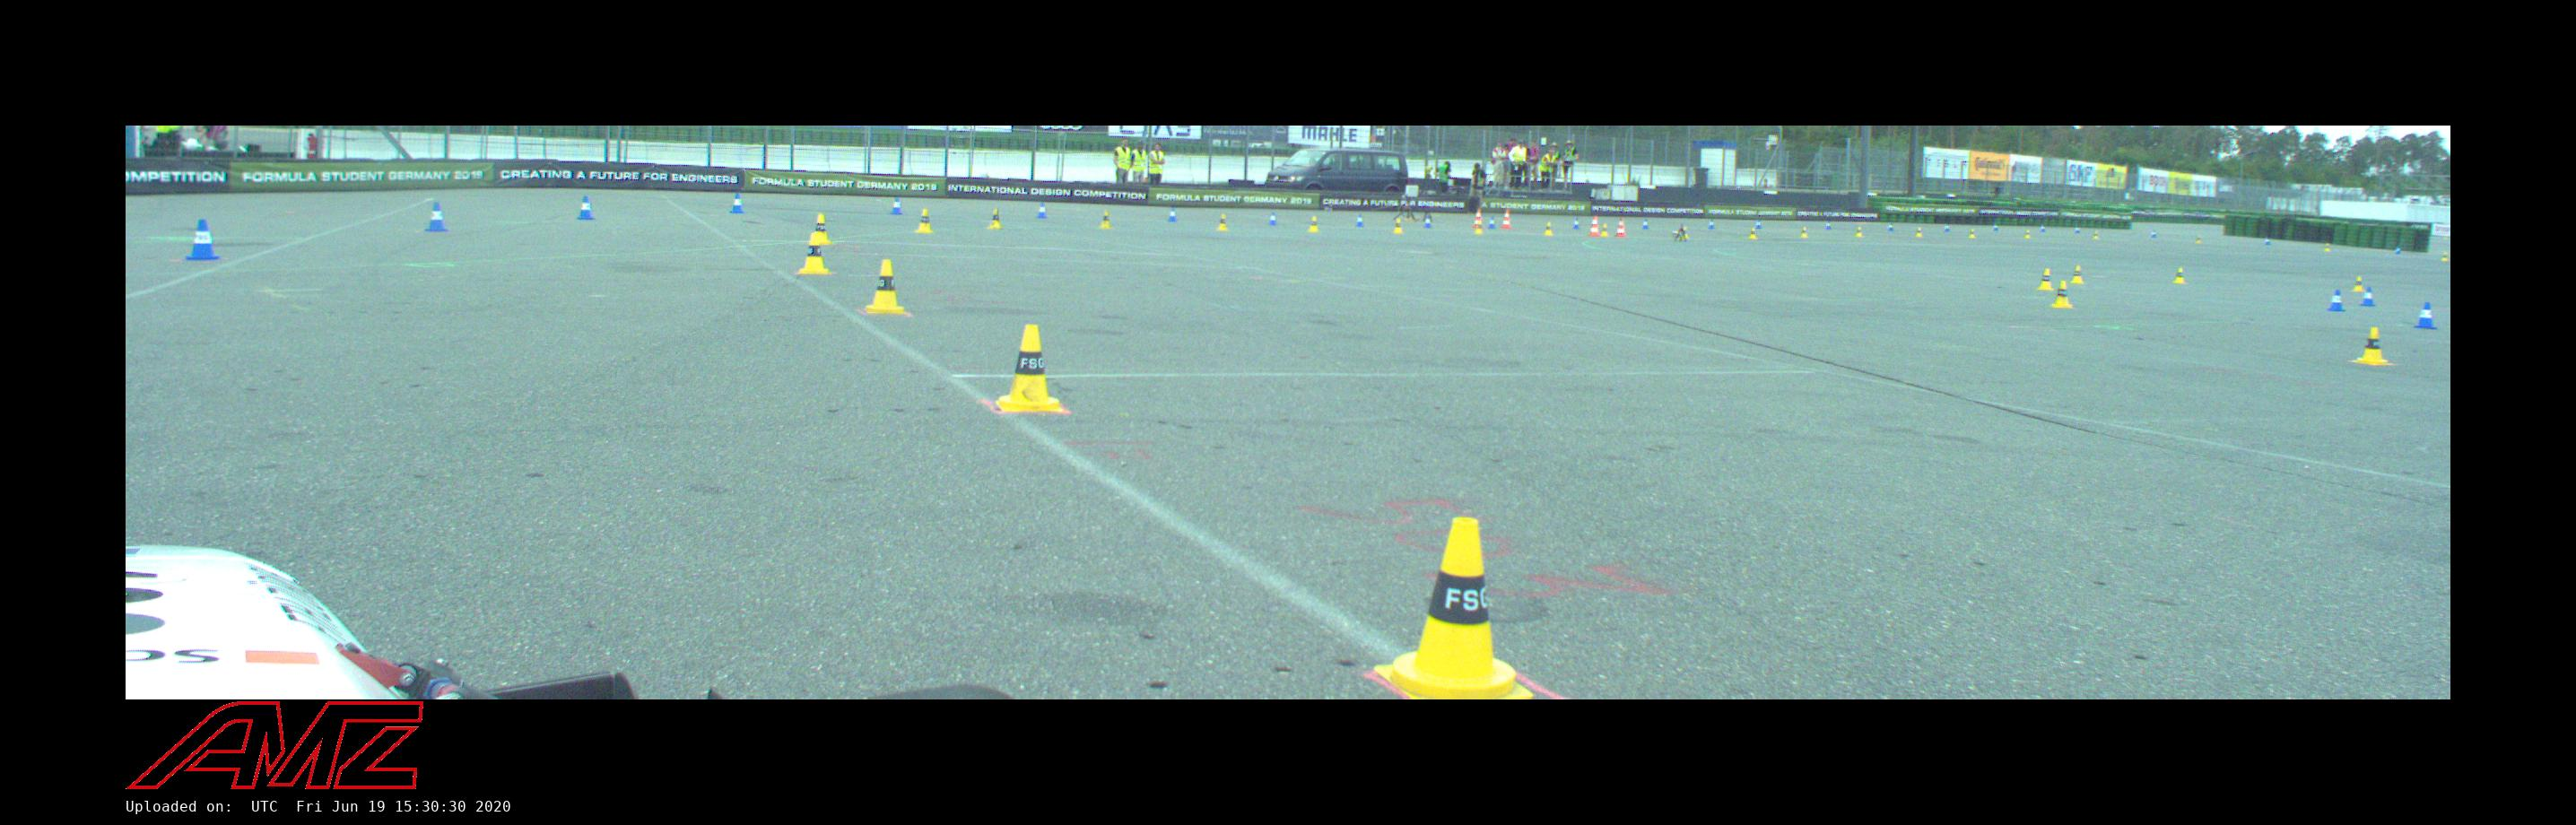blue_cone: (182, 220, 222, 260), (423, 203, 450, 231), (2414, 302, 2441, 329), (2326, 290, 2348, 312), (576, 195, 596, 220), (728, 193, 746, 213), (2360, 286, 2376, 306), (890, 197, 903, 214), (1035, 203, 1049, 218), (1166, 208, 1179, 221), (1354, 213, 1366, 227), (1267, 213, 1278, 225), (1423, 215, 1433, 228), (1487, 216, 1496, 229), (1707, 219, 1716, 230), (1823, 220, 1832, 230), (2394, 245, 2403, 255), (1572, 218, 1580, 229), (1886, 221, 1894, 231), (2038, 222, 2046, 233), (2264, 235, 2272, 246), (1641, 219, 1649, 229), (1943, 222, 1951, 232), (1755, 219, 1762, 229), (1992, 221, 1999, 231), (2074, 224, 2081, 234), (2151, 230, 2156, 239)
large_orange_cone: (1614, 216, 1627, 237), (1588, 216, 1600, 237), (1501, 209, 1511, 229), (1473, 209, 1484, 228)
yellow_cone: (1374, 517, 1533, 699), (994, 325, 1068, 414), (864, 259, 909, 314), (2352, 326, 2396, 365), (796, 233, 831, 274), (2050, 282, 2075, 308), (811, 213, 831, 243), (913, 208, 935, 233), (2037, 269, 2057, 291), (987, 208, 1005, 230), (2069, 265, 2085, 283), (1098, 211, 1114, 229), (2172, 267, 2187, 284), (1216, 213, 1230, 230), (2352, 276, 2365, 291), (1308, 216, 1320, 232), (1392, 219, 1405, 233), (1543, 222, 1554, 235), (1473, 220, 1483, 233), (1747, 228, 1758, 239), (1601, 222, 1609, 237), (1799, 228, 1810, 238), (1854, 227, 1864, 237), (2440, 251, 2449, 262), (2322, 242, 2331, 252), (1914, 228, 1923, 237), (1969, 229, 1977, 239), (2023, 229, 2032, 239), (2194, 234, 2202, 244), (2093, 230, 2100, 239)
